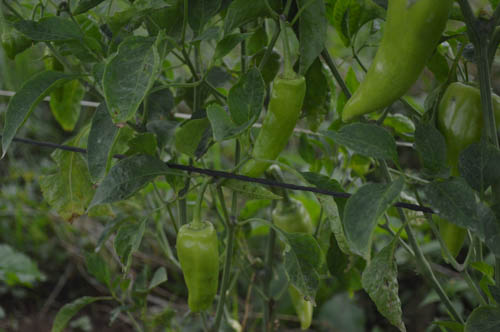ChiliPepper: (338, 5, 448, 122), (247, 79, 304, 177), (436, 82, 466, 259), (174, 227, 226, 312)
